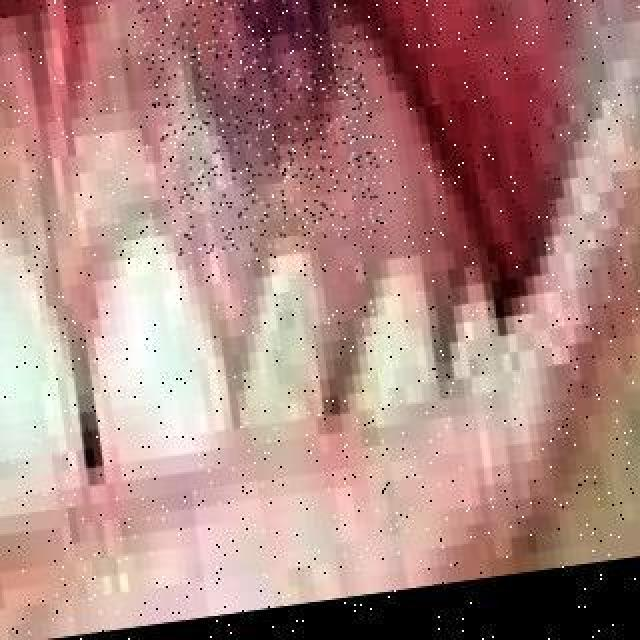spacing: (49, 343, 135, 493)
